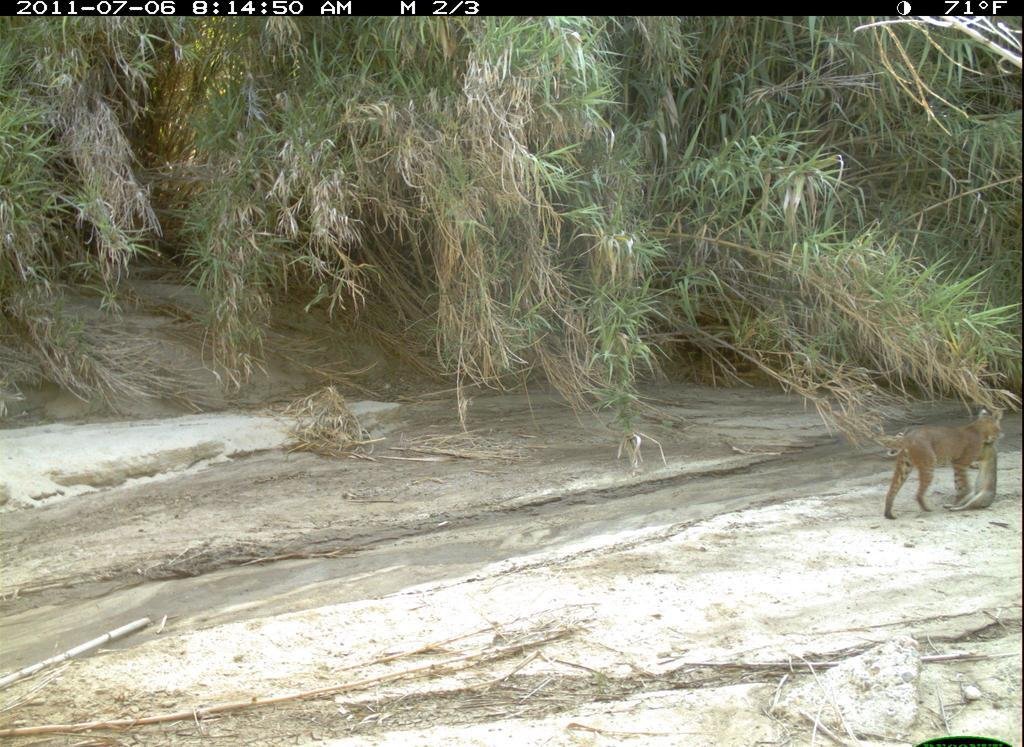bobcat: (870, 400, 1016, 525)
